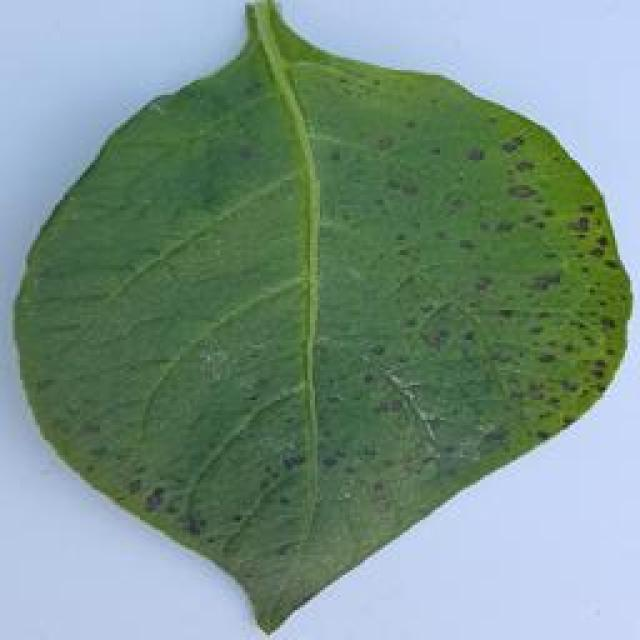Potato_Early_Blight: (6, 4, 632, 628)
